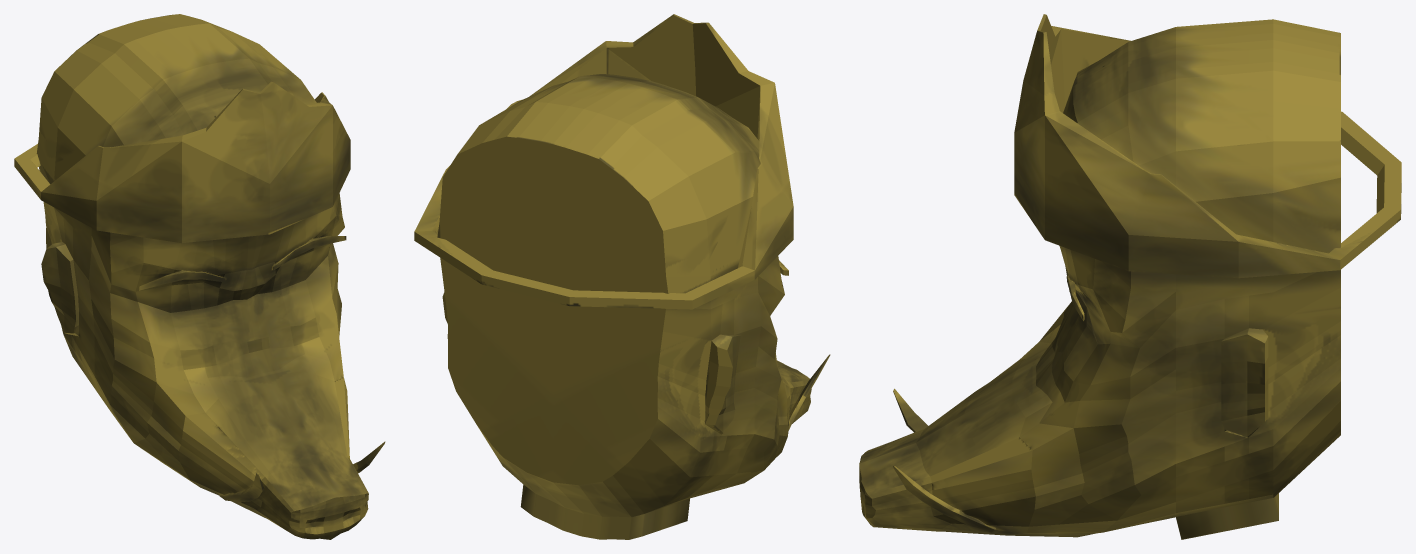
File: f_head_1.fbx
3 renders of one model, left to right at view 1: azimuth 30°, elevation 25°; view 2: azimuth 150°, elevation 25°; view 3: azimuth 270°, elevation 25°, orthographic. The views are drawn at different scales.
Parts seen in each view (by area): view 1: Circle.004; view 2: Circle.004; view 3: Circle.004.
Boxes of the visible parts, x1,y1,x2,y2 form: Circle.004: (14, 14, 385, 539); Circle.004: (414, 14, 830, 539); Circle.004: (859, 14, 1401, 539).
Bounding box in the file's own units: 95.62 × 135 × 133.
Materials: 1 (1 with a texture image).
